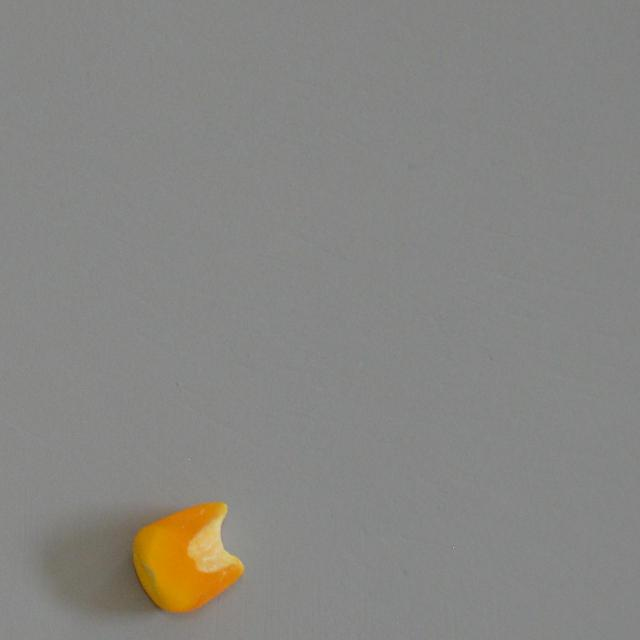dañado: (124, 490, 253, 629)
